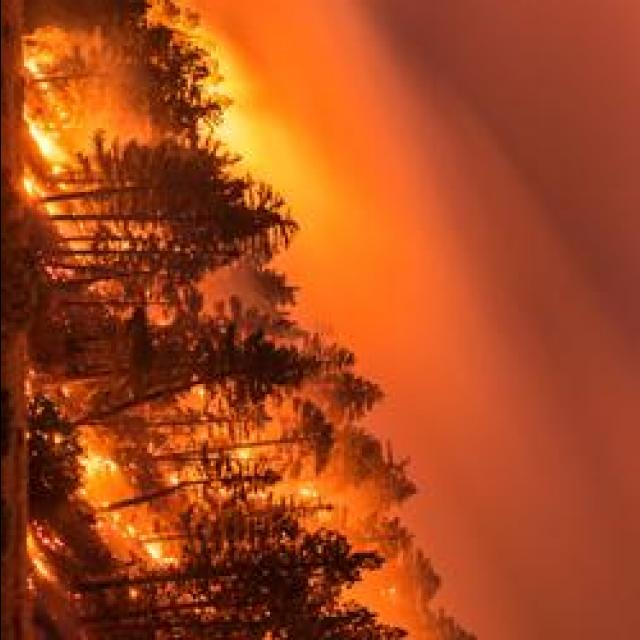fire: (23, 30, 78, 184), (44, 195, 92, 262), (22, 520, 54, 584), (222, 118, 248, 148), (144, 536, 162, 560)
